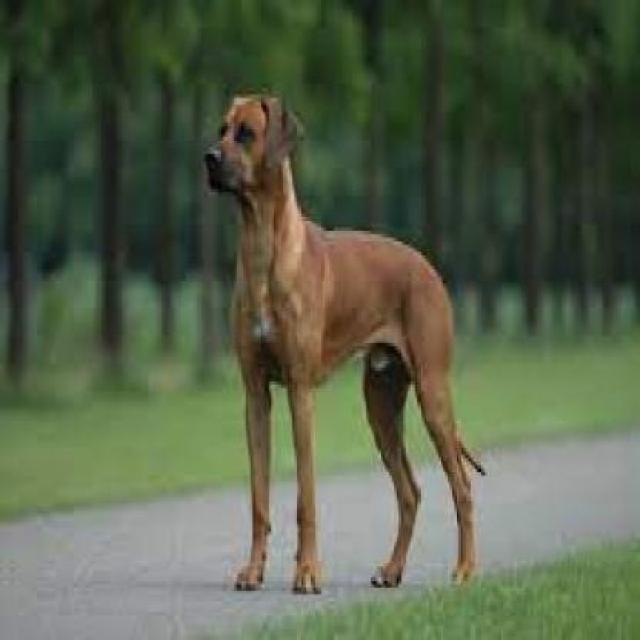animals: (176, 32, 515, 616)
